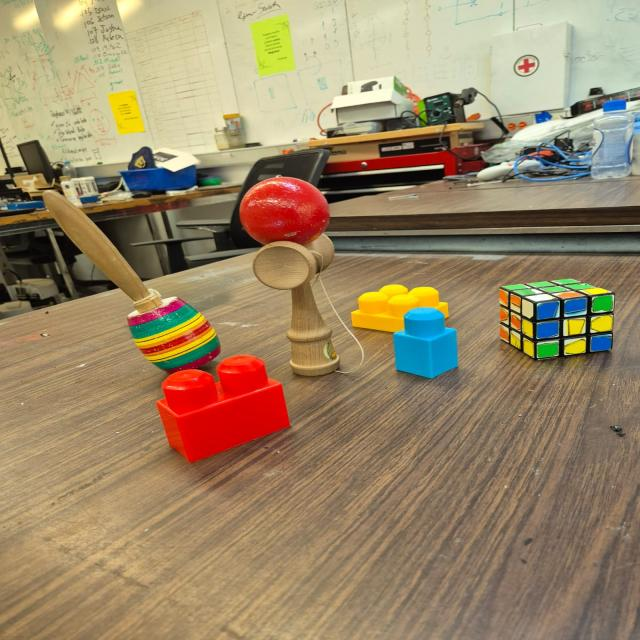balero: (45, 190, 222, 374)
balero ball: (242, 180, 369, 379)
lego 2: (154, 356, 290, 462)
lego 4: (349, 284, 455, 333)
lego_1: (393, 308, 456, 378)
rubick: (501, 280, 615, 360)
